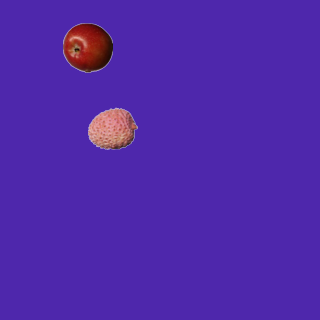Apple Braeburn: (62, 22, 112, 72)
Lychee: (87, 103, 137, 153)
